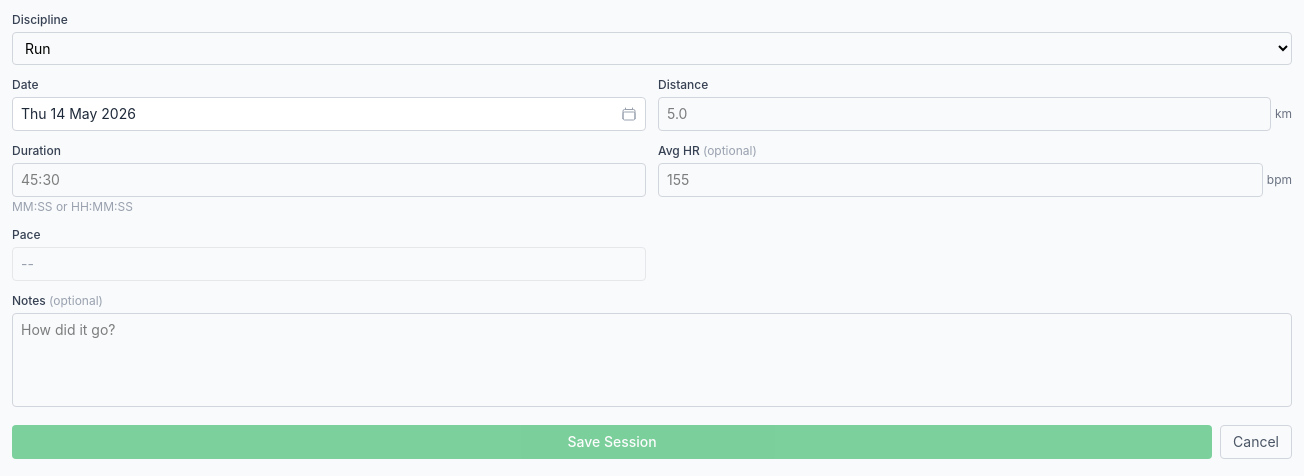
Test: RunEntryForm › save button is disabled when date is invalid
In the number field with placeholder "5.0": (964, 114) [658,97,1271,131], type "5"
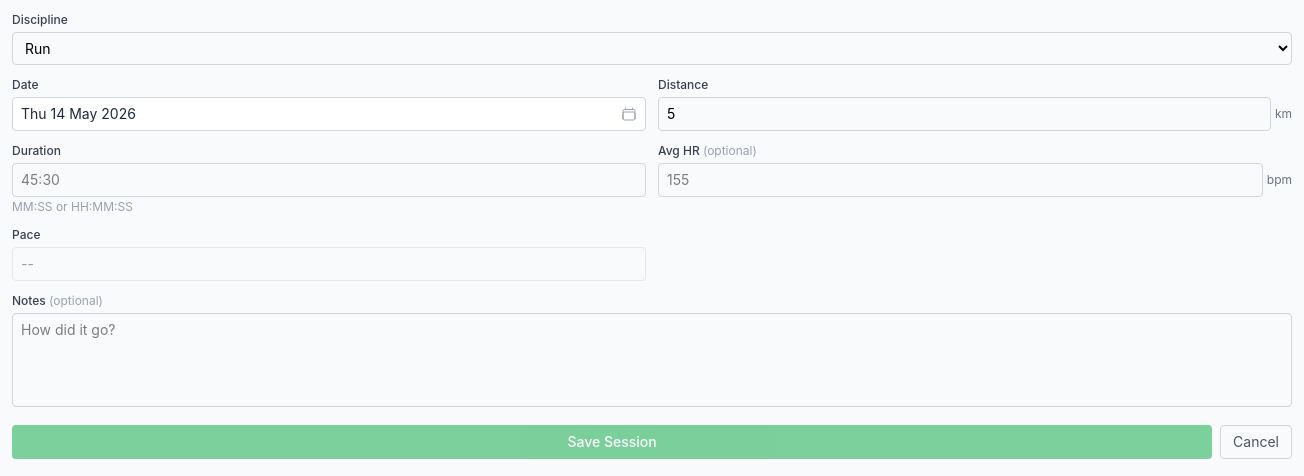
In the field with placeholder "45:30": (329, 180) [12,163,646,197], type "25:00"
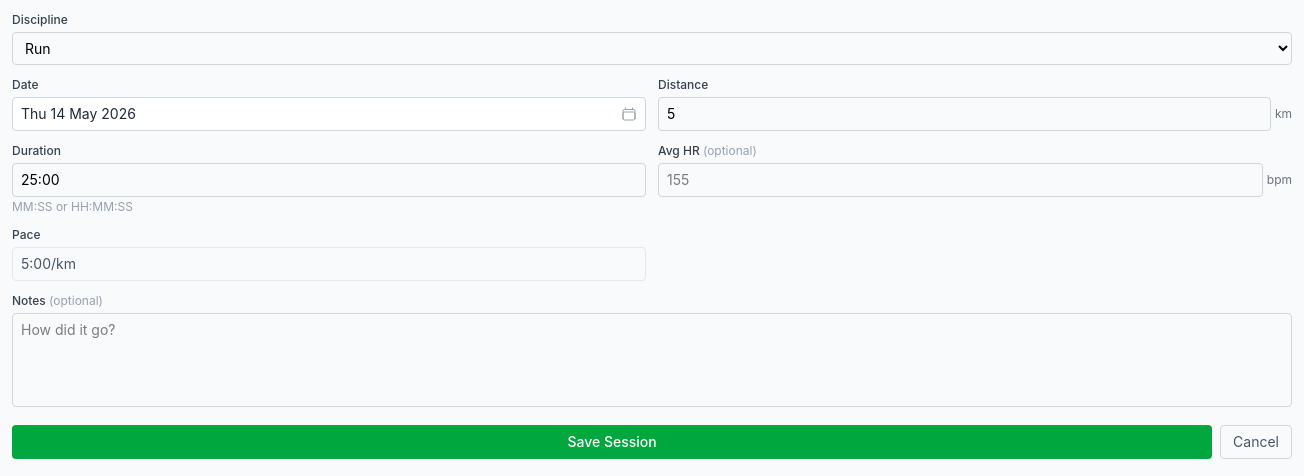
Clear the date field labelled "Thu 14 May 2026": (329, 114) [12,97,646,131]
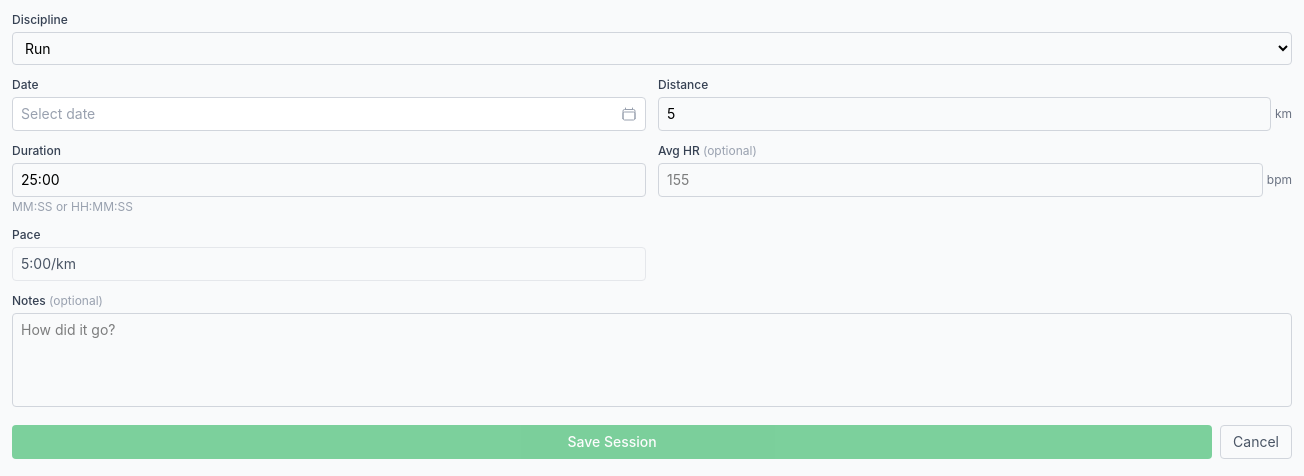
Expected: the button "Save Session" is disabled, [12,425,1212,459]
